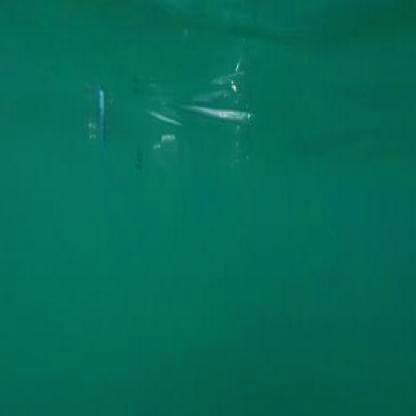pbottle: (86, 70, 275, 181)
